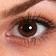eye: (18, 22, 37, 36)
